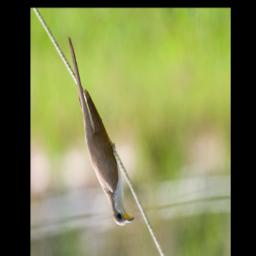Cuckoo: (66, 30, 135, 227)
